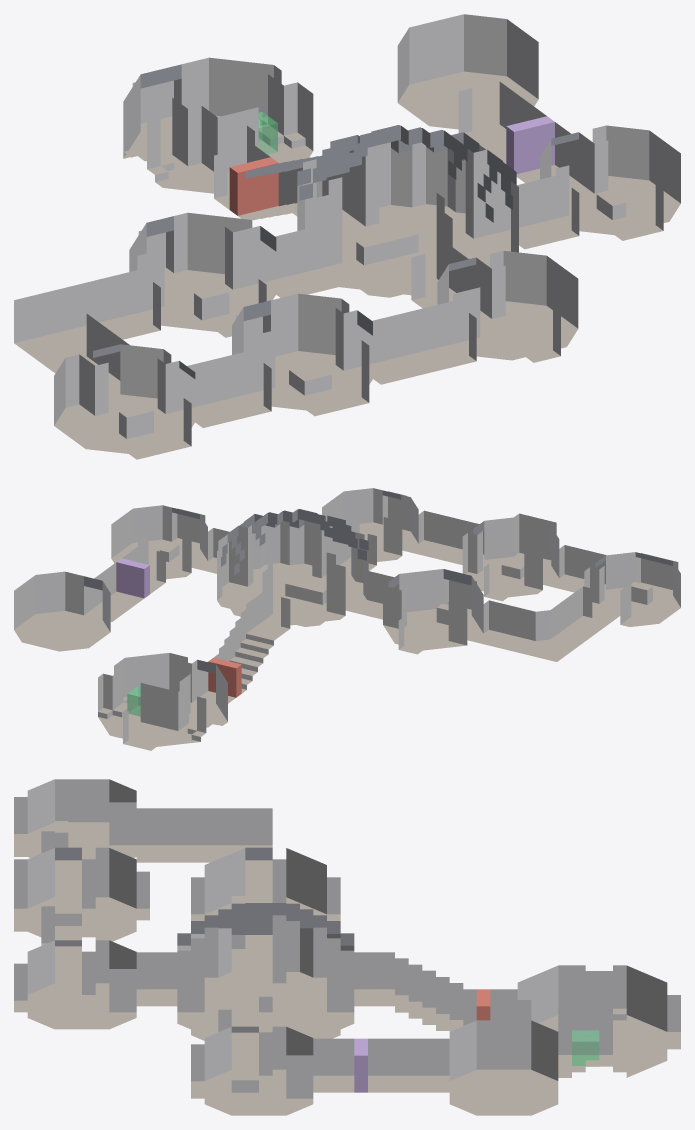
Rendered from pod_military_04.glb.
The picture shows the model from 3 angles, top to bottom: view 1: azimuth 30°, elevation 25°; view 2: azimuth 150°, elevation 25°; view 3: azimuth 270°, elevation 25°; orthographic projection. The views are drawn at different scales.
Parts seen in each view (by area): view 1: room:1, room:7, room:2, corridor:7, room:4, room:6, room:3, room:5, room:0, room:1/portals, corridor:3, entities (+17 smaller); view 2: room:1, room:7, corridor:7, room:2, room:4, room:3, room:6, room:5, room:1/portals, corridor:1, room:0, entities (+20 smaller); view 3: room:1, room:7, room:4, corridor:7, room:2, corridor:1, room:6, room:5, corridor:6, room:0, room:3, room:1/portals (+20 smaller).
Part boxes in pixels (x1,y1,x2,y2): room:1: [297, 125, 518, 297]; room:7: [397, 14, 538, 130]; room:2: [123, 57, 313, 194]; corridor:7: [14, 270, 160, 396]; room:4: [232, 293, 372, 416]; room:6: [54, 344, 195, 459]; room:3: [129, 212, 276, 331]; room:5: [540, 125, 680, 240]; room:0: [437, 250, 578, 360]; room:1/portals: [315, 135, 500, 289]; corridor:3: [357, 301, 476, 384]; entities: [229, 112, 554, 215]; room:1: [217, 509, 368, 626]; room:7: [14, 571, 110, 651]; corridor:7: [473, 586, 610, 661]; room:2: [98, 653, 227, 746]; room:4: [462, 513, 559, 597]; room:3: [383, 569, 483, 650]; room:6: [584, 552, 680, 626]; room:5: [111, 505, 207, 580]; room:1/portals: [229, 516, 345, 621]; corridor:1: [197, 593, 290, 703]; room:0: [322, 488, 418, 561]; entities: [116, 558, 241, 716]; room:1: [177, 903, 354, 1046]; room:7: [449, 1020, 558, 1115]; room:4: [14, 847, 136, 941]; corridor:7: [136, 808, 272, 897]; room:2: [517, 965, 667, 1077]; corridor:1: [354, 952, 517, 1031]; room:6: [14, 779, 136, 868]; room:5: [191, 1026, 313, 1115]; corridor:6: [313, 1038, 449, 1092]; room:0: [27, 940, 136, 1029]; room:3: [204, 847, 326, 948]; room:1/portals: [177, 915, 354, 1012].
Size of the model in its own units: 51 by 10 by 49.
